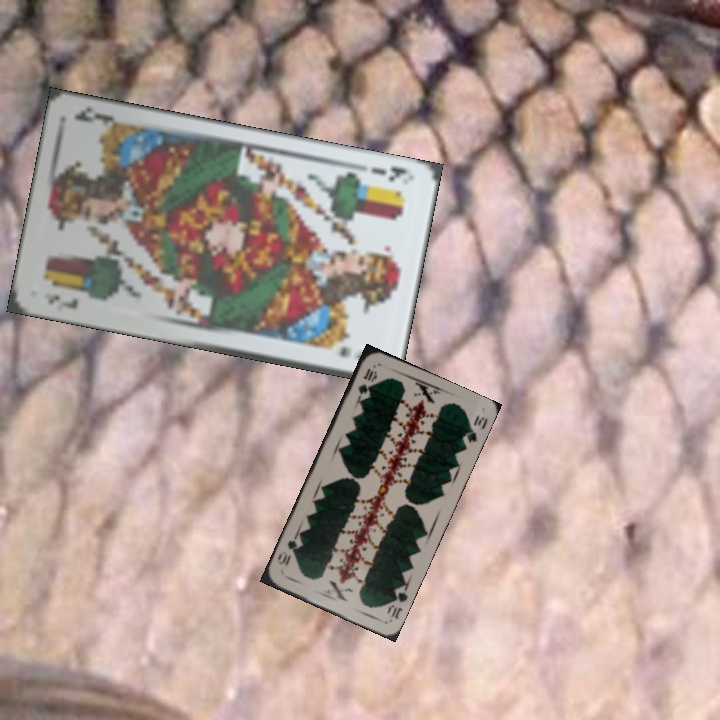EK: (367, 161, 415, 185), (41, 289, 82, 313)
G10: (383, 584, 410, 622), (354, 364, 379, 403)
